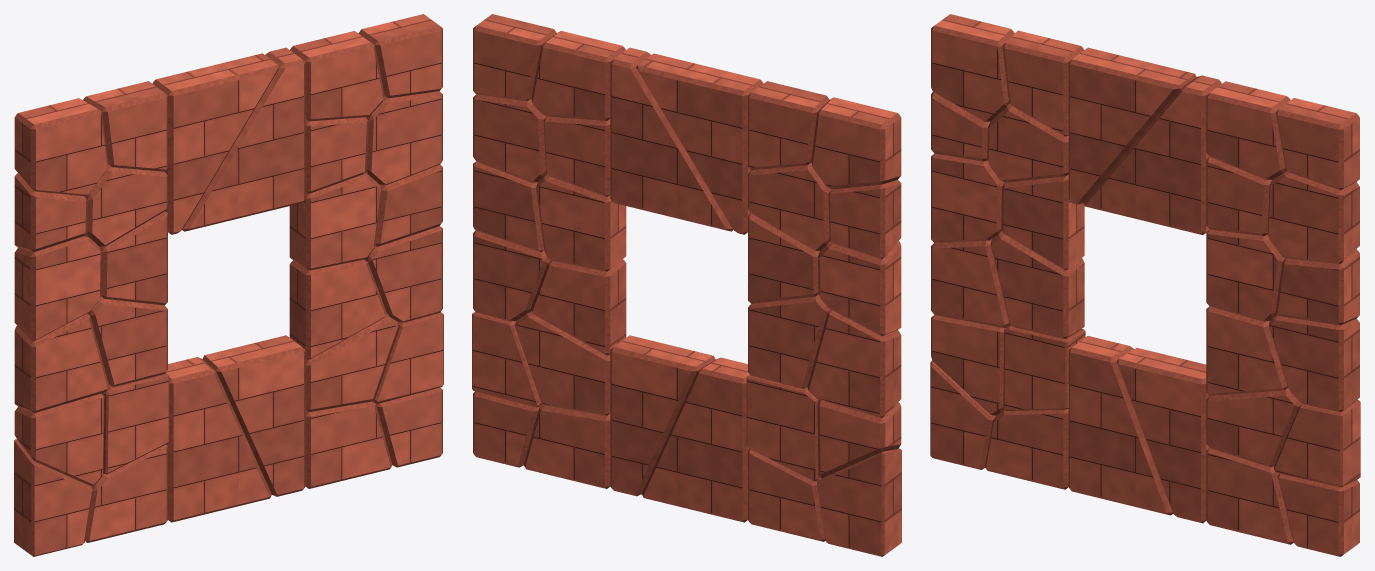
Rendered from Kit_Brick_WallWindow_Fractured.fbx.
3 views of the same model, side by side, from view 1: azimuth 30°, elevation 25°; view 2: azimuth 150°, elevation 25°; view 3: azimuth 330°, elevation 25° (orthographic).
Parts seen in each view (by area): view 1: Kit_Brick_WallWindow_frag_25, Kit_Brick_WallWindow_frag_28, Kit_Brick_WallWindow_frag_27, Kit_Brick_WallWindow_frag_26, Kit_Brick_WallWindow_frag_06, Kit_Brick_WallWindow_frag_04, Kit_Brick_WallWindow_frag_15, Kit_Brick_WallWindow_frag_16, Kit_Brick_WallWindow_frag_03, Kit_Brick_WallWindow_frag_01, Kit_Brick_WallWindow_frag_18, Kit_Brick_WallWindow_frag_23 (+16 smaller); view 2: Kit_Brick_WallWindow_frag_25, Kit_Brick_WallWindow_frag_28, Kit_Brick_WallWindow_frag_27, Kit_Brick_WallWindow_frag_26, Kit_Brick_WallWindow_frag_03, Kit_Brick_WallWindow_frag_01, Kit_Brick_WallWindow_frag_06, Kit_Brick_WallWindow_frag_16, Kit_Brick_WallWindow_frag_15, Kit_Brick_WallWindow_frag_14, Kit_Brick_WallWindow_frag_18, Kit_Brick_WallWindow_frag_04 (+16 smaller); view 3: Kit_Brick_WallWindow_frag_25, Kit_Brick_WallWindow_frag_28, Kit_Brick_WallWindow_frag_27, Kit_Brick_WallWindow_frag_26, Kit_Brick_WallWindow_frag_23, Kit_Brick_WallWindow_frag_21, Kit_Brick_WallWindow_frag_06, Kit_Brick_WallWindow_frag_09, Kit_Brick_WallWindow_frag_18, Kit_Brick_WallWindow_frag_24, Kit_Brick_WallWindow_frag_13, Kit_Brick_WallWindow_frag_16 (+16 smaller).
Part boxes in pixels (x1,y1,x2,y2): Kit_Brick_WallWindow_frag_25: [166, 357, 271, 522]; Kit_Brick_WallWindow_frag_28: [182, 47, 305, 231]; Kit_Brick_WallWindow_frag_27: [152, 53, 279, 234]; Kit_Brick_WallWindow_frag_26: [202, 335, 305, 496]; Kit_Brick_WallWindow_frag_06: [14, 98, 108, 195]; Kit_Brick_WallWindow_frag_04: [14, 236, 101, 340]; Kit_Brick_WallWindow_frag_15: [289, 259, 386, 359]; Kit_Brick_WallWindow_frag_16: [289, 172, 381, 270]; Kit_Brick_WallWindow_frag_03: [14, 313, 108, 413]; Kit_Brick_WallWindow_frag_01: [14, 439, 93, 556]; Kit_Brick_WallWindow_frag_18: [290, 31, 384, 121]; Kit_Brick_WallWindow_frag_23: [365, 91, 442, 185]; Kit_Brick_WallWindow_frag_25: [641, 357, 749, 522]; Kit_Brick_WallWindow_frag_28: [610, 47, 732, 231]; Kit_Brick_WallWindow_frag_27: [636, 53, 763, 234]; Kit_Brick_WallWindow_frag_26: [610, 335, 715, 496]; Kit_Brick_WallWindow_frag_03: [807, 310, 901, 418]; Kit_Brick_WallWindow_frag_01: [817, 448, 901, 556]; Kit_Brick_WallWindow_frag_06: [811, 97, 901, 189]; Kit_Brick_WallWindow_frag_16: [536, 174, 626, 271]; Kit_Brick_WallWindow_frag_15: [531, 259, 626, 355]; Kit_Brick_WallWindow_frag_14: [514, 311, 610, 415]; Kit_Brick_WallWindow_frag_18: [531, 31, 625, 120]; Kit_Brick_WallWindow_frag_04: [818, 241, 901, 336]; Kit_Brick_WallWindow_frag_25: [1068, 336, 1173, 515]; Kit_Brick_WallWindow_frag_28: [1083, 75, 1221, 234]; Kit_Brick_WallWindow_frag_27: [1068, 47, 1196, 204]; Kit_Brick_WallWindow_frag_26: [1116, 348, 1209, 523]; Kit_Brick_WallWindow_frag_23: [1267, 171, 1359, 263]; Kit_Brick_WallWindow_frag_21: [1268, 315, 1359, 412]; Kit_Brick_WallWindow_frag_06: [931, 14, 1014, 121]; Kit_Brick_WallWindow_frag_09: [990, 230, 1084, 338]; Kit_Brick_WallWindow_frag_18: [1206, 81, 1290, 180]; Kit_Brick_WallWindow_frag_24: [1275, 98, 1359, 190]; Kit_Brick_WallWindow_frag_13: [1206, 448, 1293, 544]; Kit_Brick_WallWindow_frag_16: [1206, 229, 1285, 321].
Size of what is drawn, in the model's own units: 3 by 3 by 0.25.
Materials: 2 (2 with a texture image).
